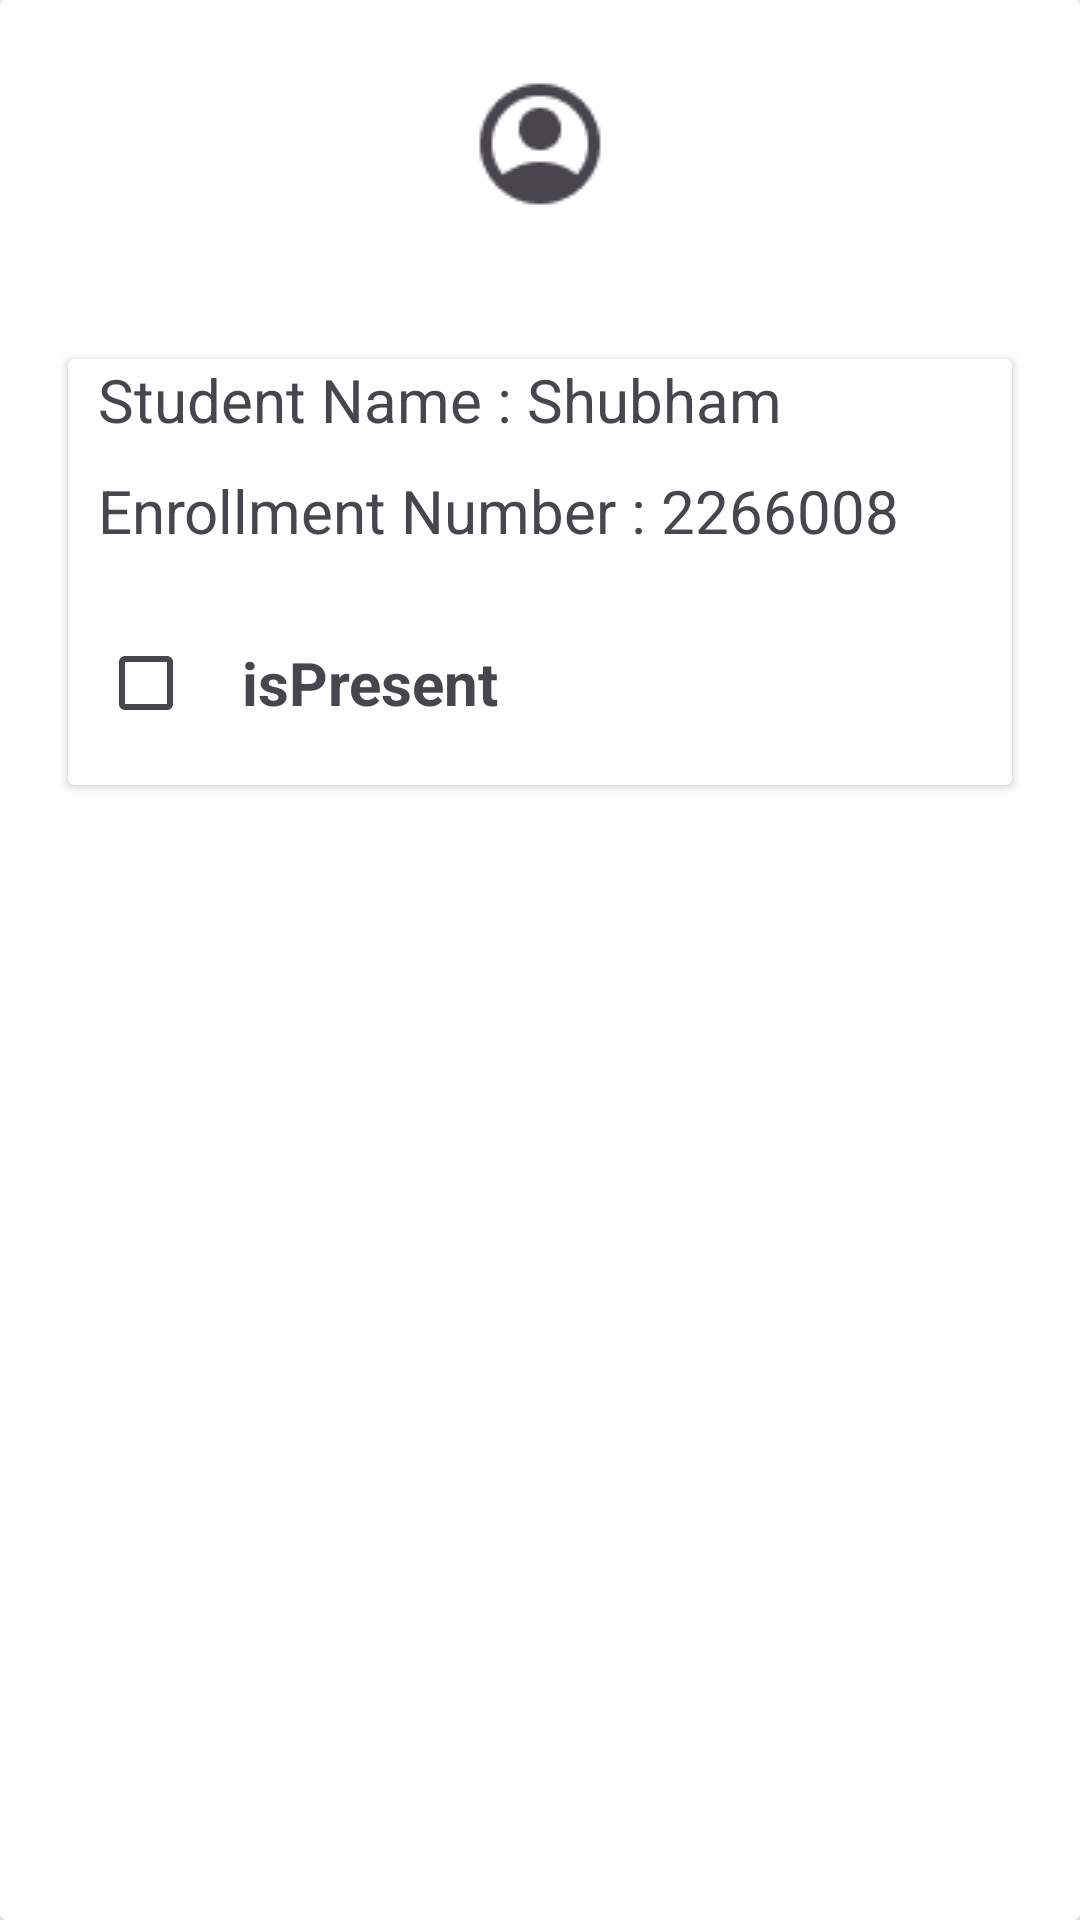

Icon bounding boxes for this 1080w x 1920h phone screenshot, format (x1, y1, x2, y2):
profile: (479, 83, 601, 205)
